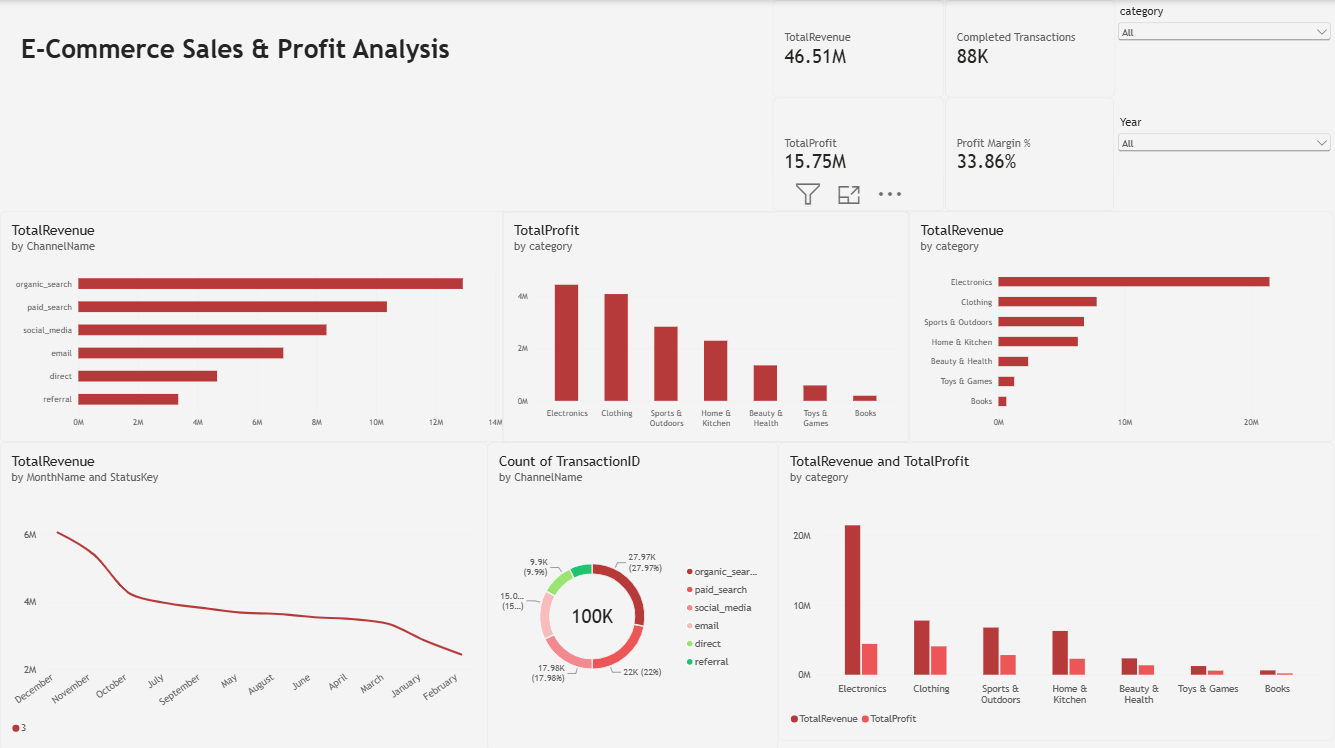

This screenshot's page, from the dashboard's own definition file:
{"tool":"powerbi","page":{"name":"Dashboard","canvas":[1920,1080],"ordinal":0},"visuals":[{"type":"cardVisual","fields":{"Data":["FactTransactions.TotalProfit"]},"box":[1110.7,140.8,247.6,163.5],"z":0},{"type":"cardVisual","fields":{"Data":["FactTransactions.TotalRevenue"]},"box":[1110.7,0,247.6,140.8],"z":1000},{"type":"cardVisual","fields":{"Data":["FactTransactions.Profit Margin %"]},"box":[1359,140.2,243.8,163.9],"z":2000},{"type":"cardVisual","fields":{"Data":["FactTransactions.Completed Transactions"]},"box":[1358.2,0,245.3,140.8],"z":3000},{"type":"lineChart","fields":{"Category":["DimDate.MonthName"],"Series":["FactTransactions.StatusKey"],"Y":["FactTransactions.TotalRevenue"]},"box":[0,636,701.8,442.9],"z":4000},{"type":"clusteredBarChart","fields":{"Category":["DimProduct.category"],"Y":["FactTransactions.TotalRevenue"]},"box":[1308.3,304.4,611,331.6],"z":5000},{"type":"clusteredBarChart","fields":{"Category":["DimChannel.ChannelName"],"Y":["FactTransactions.TotalRevenue"]},"box":[0,304.4,740.4,331.6],"z":6000},{"type":"clusteredColumnChart","fields":{"Category":["DimProduct.category"],"Y":["FactTransactions.TotalProfit"]},"box":[722.3,304.4,586,331.6],"z":7000},{"type":"slicer","fields":{"Values":["DimDate.Year"]},"box":[1603.5,165.8,315.7,138.5],"z":8000},{"type":"slicer","fields":{"Values":["DimProduct.category"]},"box":[1603.5,6.8,315.7,134],"z":9000},{"type":"donutChart","fields":{"Category":["DimChannel.ChannelName"],"Y":["CountNonNull(FactTransactions.TransactionID)"]},"box":[701.8,636,417.9,442.9],"z":10000},{"type":"clusteredColumnChart","fields":{"Category":["DimProduct.category"],"Y":["FactTransactions.TotalRevenue","FactTransactions.TotalProfit"]},"box":[1119.8,636,799.5,429.3],"z":11000},{"type":"textbox","box":[30.2,47.5,709.7,118.6],"z":11001}]}

Visuals, with their boxes in screenshot pixels (x1, y1, x2, y2), scaled from the page's 1920x1080 canvas onto the 1335x748 screenshot:
cardVisual - FactTransactions.TotalProfit: <region>772, 98, 944, 211</region>
cardVisual - FactTransactions.TotalRevenue: <region>772, 0, 944, 98</region>
cardVisual - FactTransactions.Profit Margin %: <region>945, 97, 1114, 211</region>
cardVisual - FactTransactions.Completed Transactions: <region>944, 0, 1115, 98</region>
lineChart - DimDate.MonthName x FactTransactions.StatusKey: <region>0, 440, 488, 747</region>
clusteredBarChart - DimProduct.category x FactTransactions.TotalRevenue: <region>910, 211, 1334, 440</region>
clusteredBarChart - DimChannel.ChannelName x FactTransactions.TotalRevenue: <region>0, 211, 515, 440</region>
clusteredColumnChart - DimProduct.category x FactTransactions.TotalProfit: <region>502, 211, 910, 440</region>
slicer - DimDate.Year: <region>1115, 115, 1334, 211</region>
slicer - DimProduct.category: <region>1115, 5, 1334, 98</region>
donutChart - DimChannel.ChannelName x CountNonNull(FactTransactions.TransactionID): <region>488, 440, 779, 747</region>
clusteredColumnChart - DimProduct.category x FactTransactions.TotalRevenue: <region>779, 440, 1334, 738</region>
textbox: <region>21, 33, 514, 115</region>
